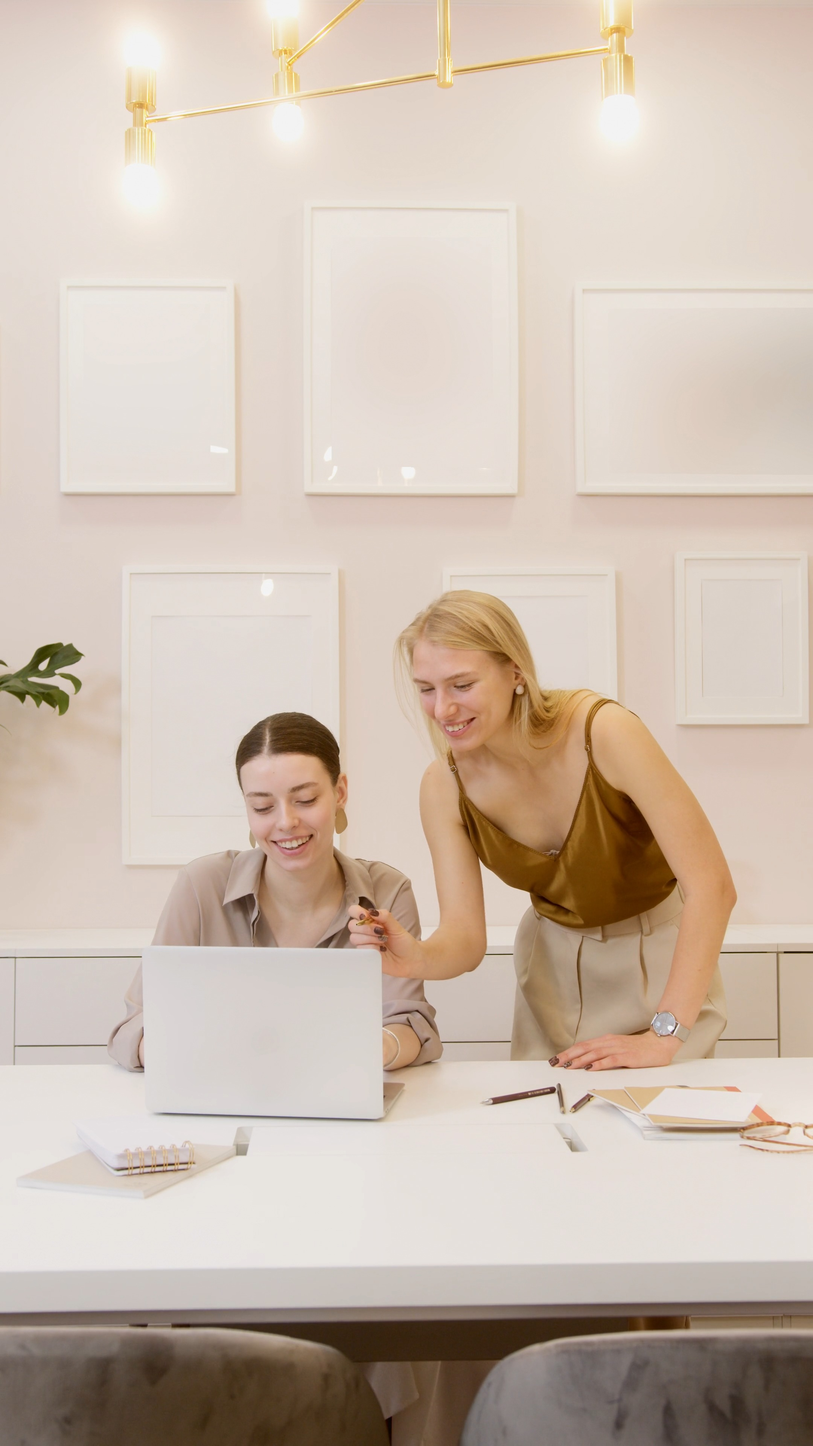No-gloves: (339, 887, 475, 1001), (553, 994, 701, 1086)
